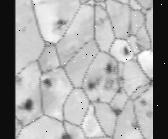good_void: (86, 74, 103, 90), (103, 77, 115, 89), (24, 95, 33, 109), (96, 14, 105, 27), (44, 76, 53, 88), (15, 72, 24, 84), (56, 18, 67, 25), (62, 130, 70, 139), (105, 61, 112, 71), (116, 74, 124, 81), (112, 108, 121, 114), (124, 44, 129, 54), (114, 86, 121, 92), (95, 96, 100, 102), (132, 123, 137, 128), (141, 99, 145, 103)
